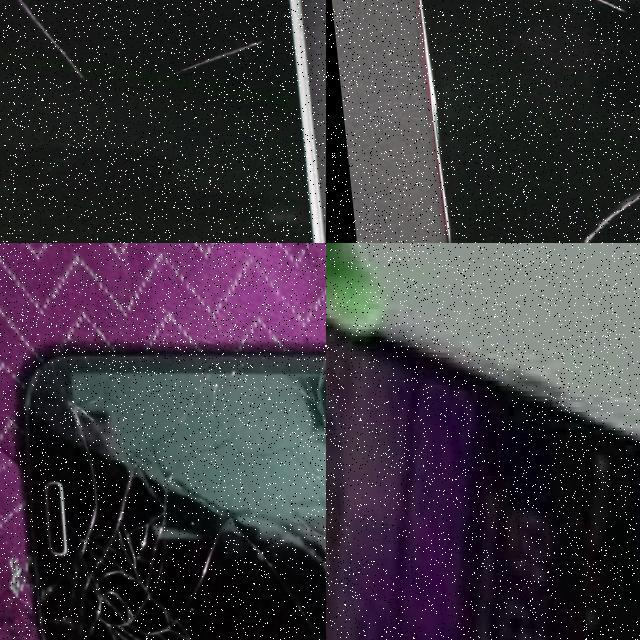scratch: (0, 0, 93, 87), (552, 175, 640, 243), (489, 0, 626, 25), (169, 37, 262, 70)
screen crack: (3, 351, 326, 640)
